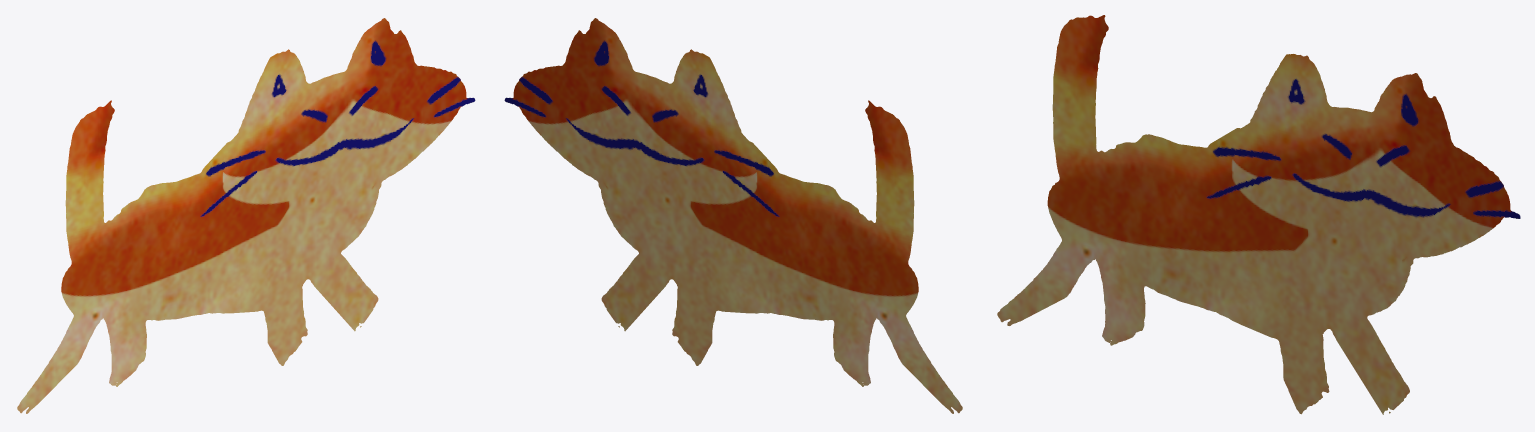
Rendered from animal_02.fbx.
The picture shows the model from 3 angles, left to right: view 1: azimuth 30°, elevation 25°; view 2: azimuth 150°, elevation 25°; view 3: azimuth 330°, elevation 25°; orthographic projection. The views are drawn at different scales.
Visible parts, largest first — view 1: animal_02; view 2: animal_02; view 3: animal_02.
Part boxes in pixels (box(x1,y1,x2,y2)): animal_02: box(17, 18, 475, 413); animal_02: box(504, 18, 962, 413); animal_02: box(997, 15, 1520, 414).
Size of the model in its own units: 84.17 by 57.55 by 6.86e-06.
1 material, 1 textured.
